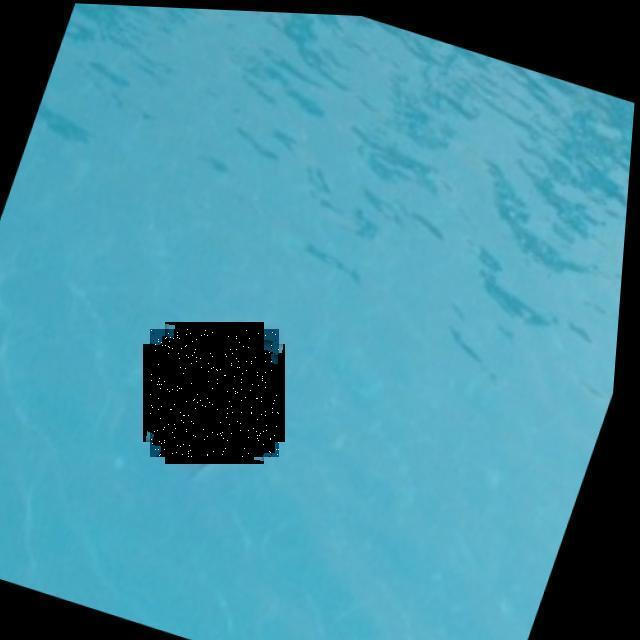swimming: (150, 329, 279, 457)
